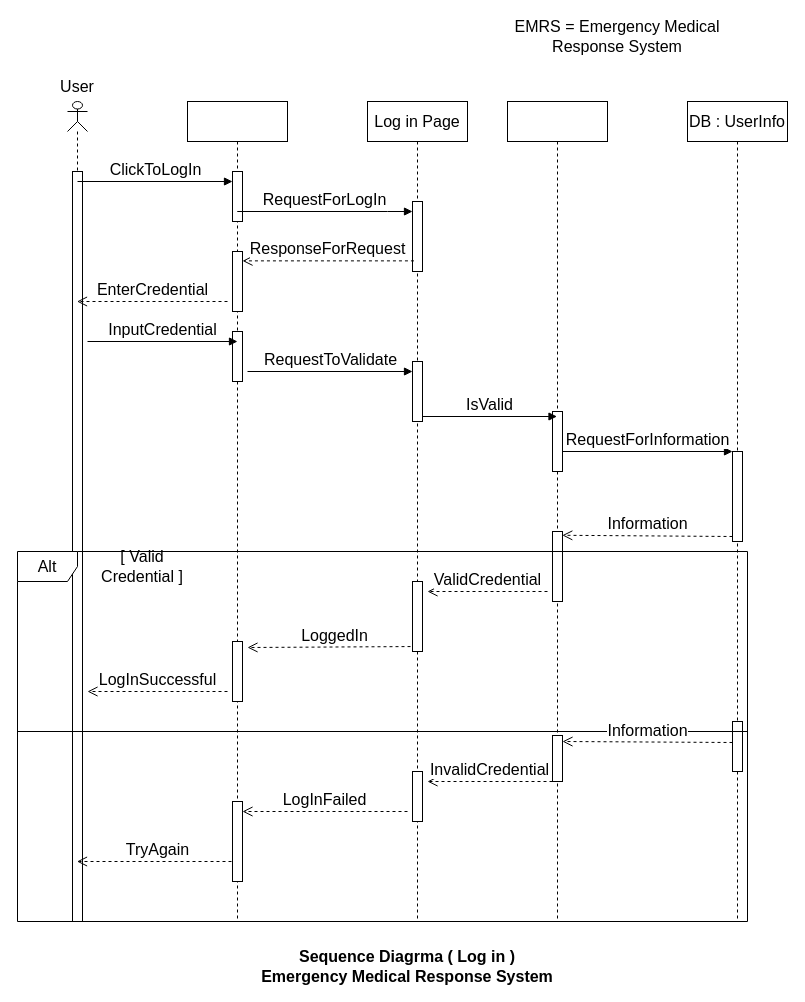
Image size: 805x1002. Some labels were removed from this diagram. The box of each missing label's shape, as (x1, y1, x2, y2) in pixels:
EMRS: (186, 100, 288, 922)
Log in validator: (506, 100, 608, 922)
